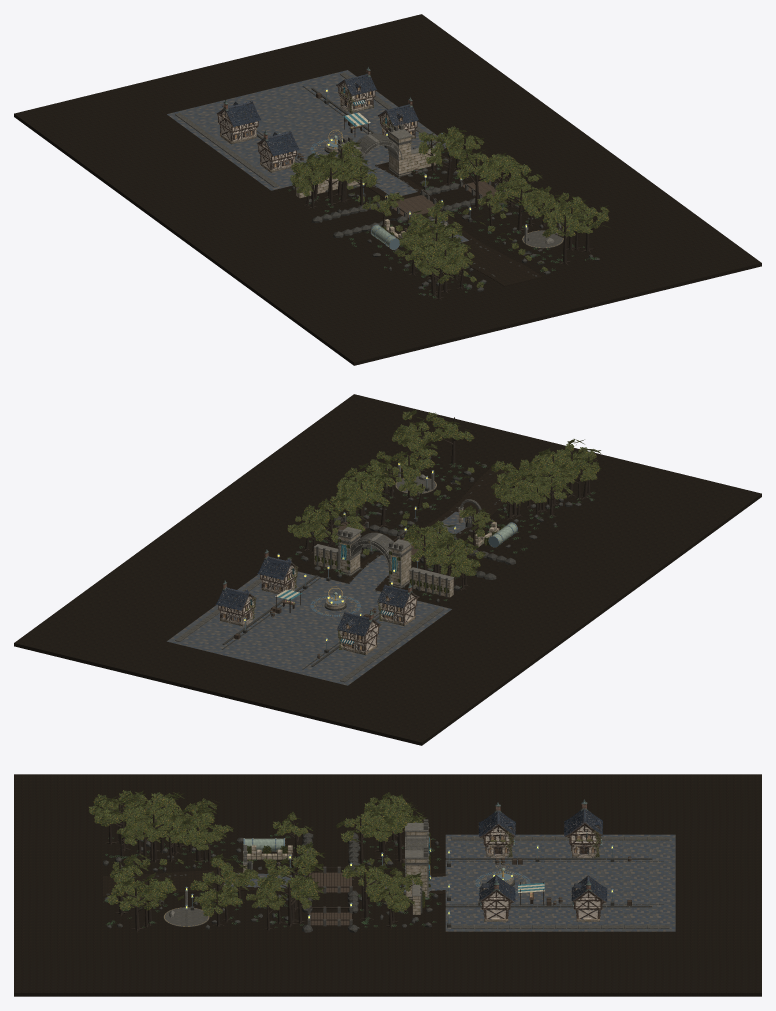
The model's file is briar-gate.glb.
The picture shows the model from 3 angles, top to bottom: view 1: azimuth 30°, elevation 25°; view 2: azimuth 150°, elevation 25°; view 3: azimuth 270°, elevation 25°; orthographic projection. The views are drawn at different scales.
Visible parts, largest first — view 1: env.sector.0.earth, env.sector.-2.paving, env.sector.-1.paving, env.sector.2.mud, env.house.-13.-24.house.merchant.0, env.house.-13.-9.house.merchant.0, env.house.13.-25.house.merchant.0, env.sector.0.stone-dark, env.house.13.-9.house.merchant.0, env.sector.1.stone-dark, env.occluder-tree.10.43.26.18.foliage, env.occluder-tree.-9.04.42.91.foliage (+7 smaller); view 2: env.sector.0.earth, env.sector.-2.paving, env.sector.-1.paving, env.house.-13.-24.house.merchant.0, env.house.-13.-9.house.merchant.0, env.house.13.-25.house.merchant.0, env.house.13.-9.house.merchant.0, env.sector.2.mud, env.sector.1.stone-dark, env.sector.0.paving, env.sector.0.masonry, env.occluder-tree.10.43.26.18.foliage (+6 smaller); view 3: env.sector.0.earth, env.sector.-2.paving, env.sector.-1.paving, env.house.-13.-24.house.merchant.0, env.house.-13.-9.house.merchant.0, env.house.13.-9.house.merchant.0, env.house.13.-25.house.merchant.0, env.sector.2.mud, env.occluder-tree.10.43.26.18.foliage, env.sector.0.stone-dark, env.occluder-tree.-9.04.42.91.foliage, env.occluder-tree.18.93.53.52.foliage (+31 smaller).
Boxes of the visible parts, x1=… form: env.sector.0.earth: x1=14, y1=14, x2=761, y2=365; env.sector.-2.paving: x1=167, y1=70, x2=397, y2=152; env.sector.-1.paving: x1=219, y1=113, x2=445, y2=190; env.sector.2.mud: x1=464, y1=241, x2=542, y2=286; env.house.-13.-24.house.merchant.0: x1=216, y1=100, x2=261, y2=144; env.house.-13.-9.house.merchant.0: x1=257, y1=130, x2=299, y2=172; env.house.13.-25.house.merchant.0: x1=336, y1=66, x2=376, y2=113; env.sector.0.stone-dark: x1=292, y1=152, x2=462, y2=222; env.house.13.-9.house.merchant.0: x1=377, y1=97, x2=418, y2=138; env.sector.1.stone-dark: x1=333, y1=198, x2=533, y2=256; env.occluder-tree.10.43.26.18.foliage: x1=455, y1=148, x2=500, y2=179; env.occluder-tree.-9.04.42.91.foliage: x1=408, y1=200, x2=463, y2=236; env.sector.0.earth: x1=14, y1=394, x2=761, y2=745; env.sector.-2.paving: x1=167, y1=605, x2=399, y2=685; env.sector.-1.paving: x1=237, y1=571, x2=451, y2=647; env.house.-13.-24.house.merchant.0: x1=337, y1=610, x2=381, y2=655; env.house.-13.-9.house.merchant.0: x1=377, y1=583, x2=419, y2=625; env.house.13.-25.house.merchant.0: x1=216, y1=580, x2=256, y2=626; env.house.13.-9.house.merchant.0: x1=257, y1=549, x2=298, y2=594; env.sector.2.mud: x1=451, y1=468, x2=525, y2=516; env.sector.1.stone-dark: x1=333, y1=497, x2=537, y2=564; env.sector.0.paving: x1=348, y1=555, x2=388, y2=590; env.sector.0.masonry: x1=314, y1=548, x2=453, y2=597; env.occluder-tree.10.43.26.18.foliage: x1=358, y1=473, x2=397, y2=506; env.sector.0.earth: x1=14, y1=774, x2=761, y2=996; env.sector.-2.paving: x1=560, y1=834, x2=675, y2=931; env.sector.-1.paving: x1=445, y1=834, x2=560, y2=931; env.house.-13.-24.house.merchant.0: x1=564, y1=799, x2=602, y2=858; env.house.-13.-9.house.merchant.0: x1=478, y1=802, x2=515, y2=857; env.house.13.-9.house.merchant.0: x1=479, y1=875, x2=515, y2=921; env.house.13.-25.house.merchant.0: x1=571, y1=875, x2=607, y2=921; env.sector.2.mud: x1=103, y1=870, x2=216, y2=896; env.occluder-tree.10.43.26.18.foliage: x1=265, y1=841, x2=324, y2=876; env.sector.0.stone-dark: x1=347, y1=832, x2=442, y2=932; env.occluder-tree.-9.04.42.91.foliage: x1=172, y1=798, x2=219, y2=844; env.occluder-tree.18.93.53.52.foliage: x1=107, y1=879, x2=167, y2=910.
Bounding box in the file's own units: 90 × 12.4 × 130.
Materials: 23 (16 with a texture image).
